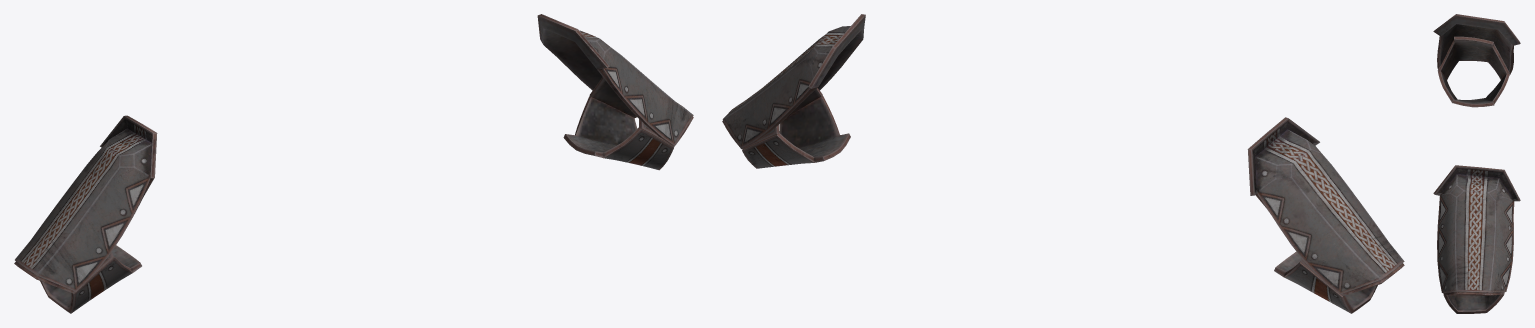
File: sk_dwarf_iron_bracer_heavy_c2.fbx
3 renders of one model, left to right at view 1: azimuth 30°, elevation 25°; view 2: azimuth 150°, elevation 25°; view 3: azimuth 270°, elevation 25°, orthographic. The views are drawn at different scales.
Parts seen in each view (by area): view 1: sk_dwarf_iron_bracer_heavy_c2; view 2: sk_dwarf_iron_bracer_heavy_c2; view 3: sk_dwarf_iron_bracer_heavy_c2.
Boxes of the visible parts, box(x1,y1,x2,y2) form: sk_dwarf_iron_bracer_heavy_c2: box(14, 14, 693, 313); sk_dwarf_iron_bracer_heavy_c2: box(722, 14, 1404, 313); sk_dwarf_iron_bracer_heavy_c2: box(1433, 14, 1520, 313).
Bounding box in the file's own units: 1.2 × 0.1871 × 0.2795.
Materials: 1 (1 with a texture image).
